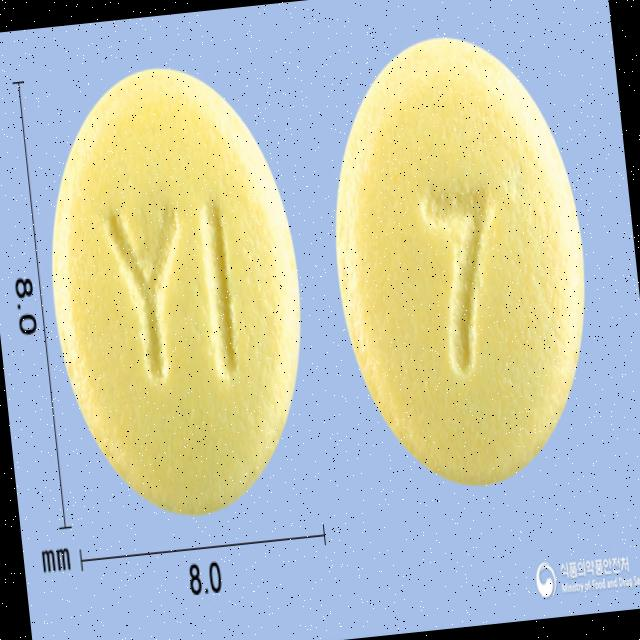Levopa: (314, 21, 608, 495), (29, 52, 320, 530)
